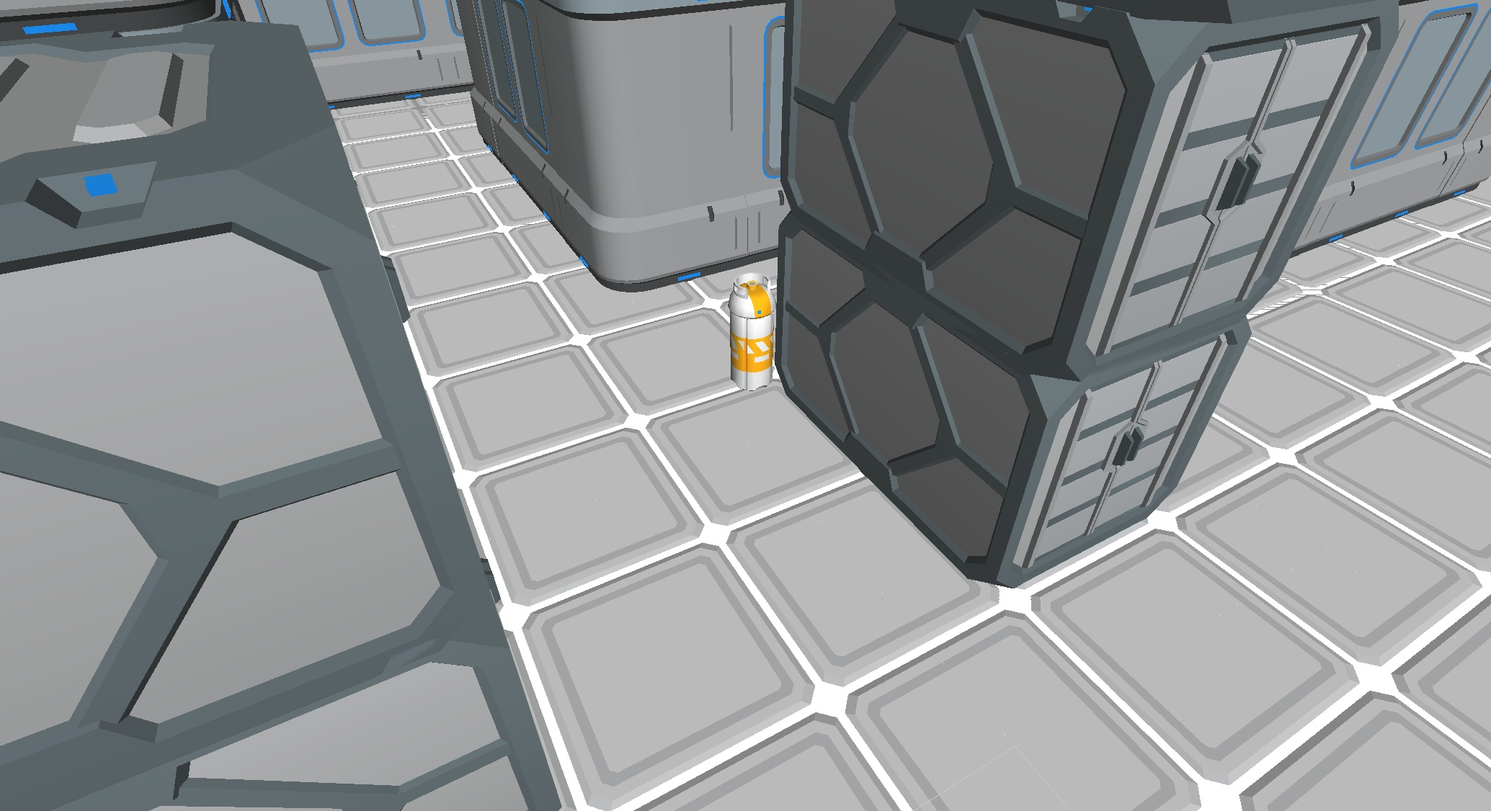yellow_barrel: (721, 272, 775, 391)
